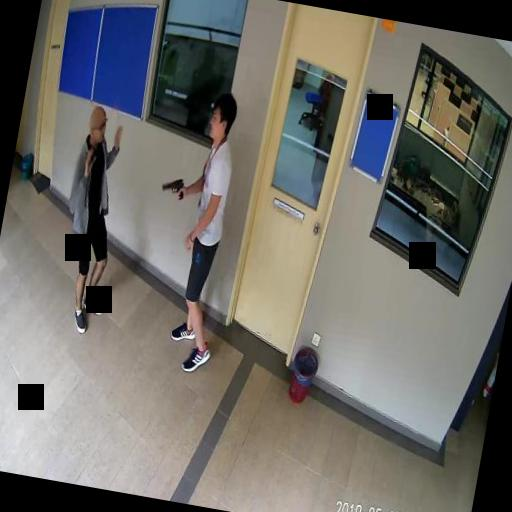Handgun: (158, 174, 184, 200)
